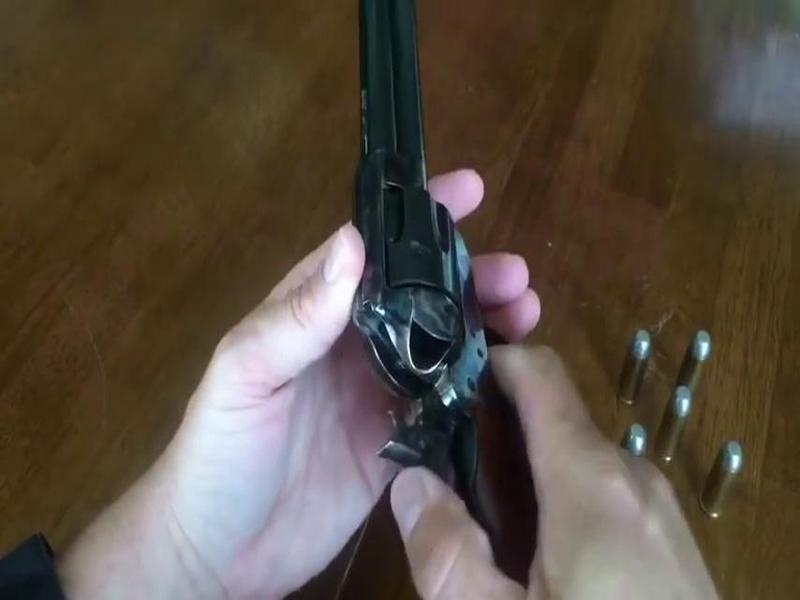Revolver: (308, 13, 564, 544)
